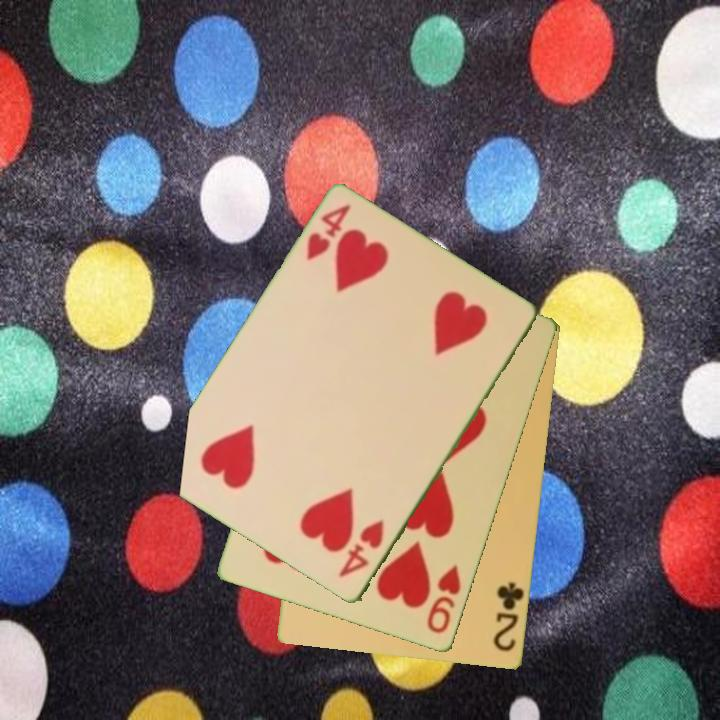2c: (490, 579, 527, 655)
4h: (335, 516, 387, 582), (303, 201, 354, 264)
9h: (424, 563, 464, 637)
